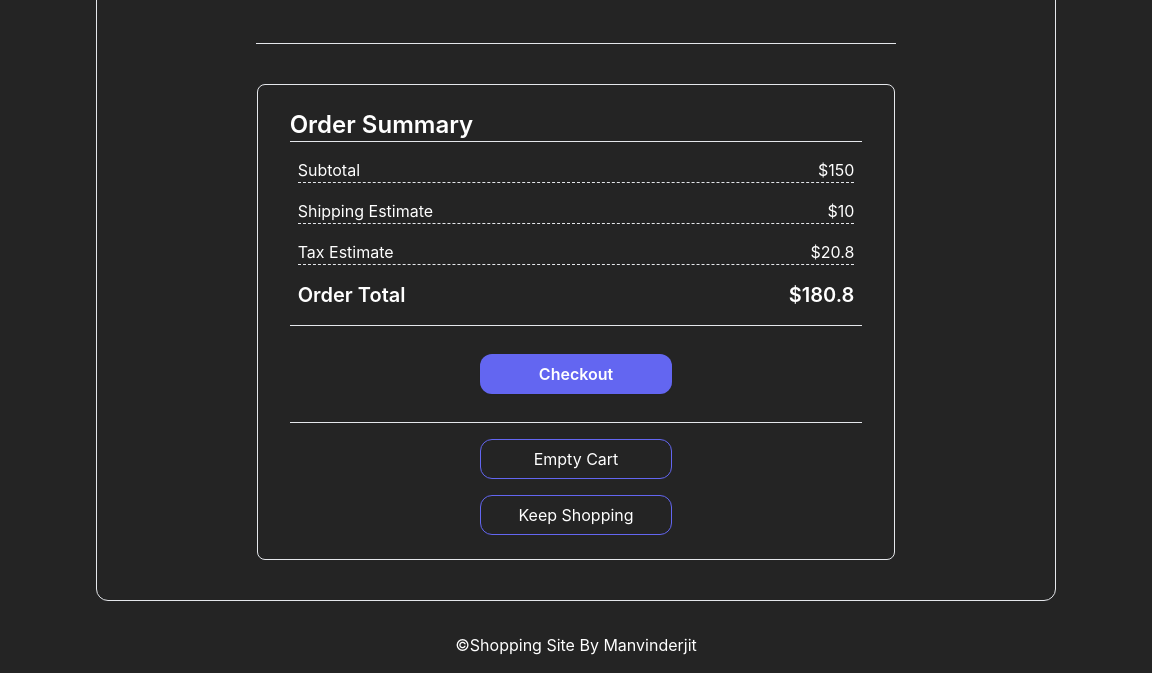
Scenario: should be able to empty cart › should render 'Empty Cart' message
(page scrolled)
Click the button "Empty Cart".
click(576, 459)  # box [480,439,672,479]
(page scrolled)
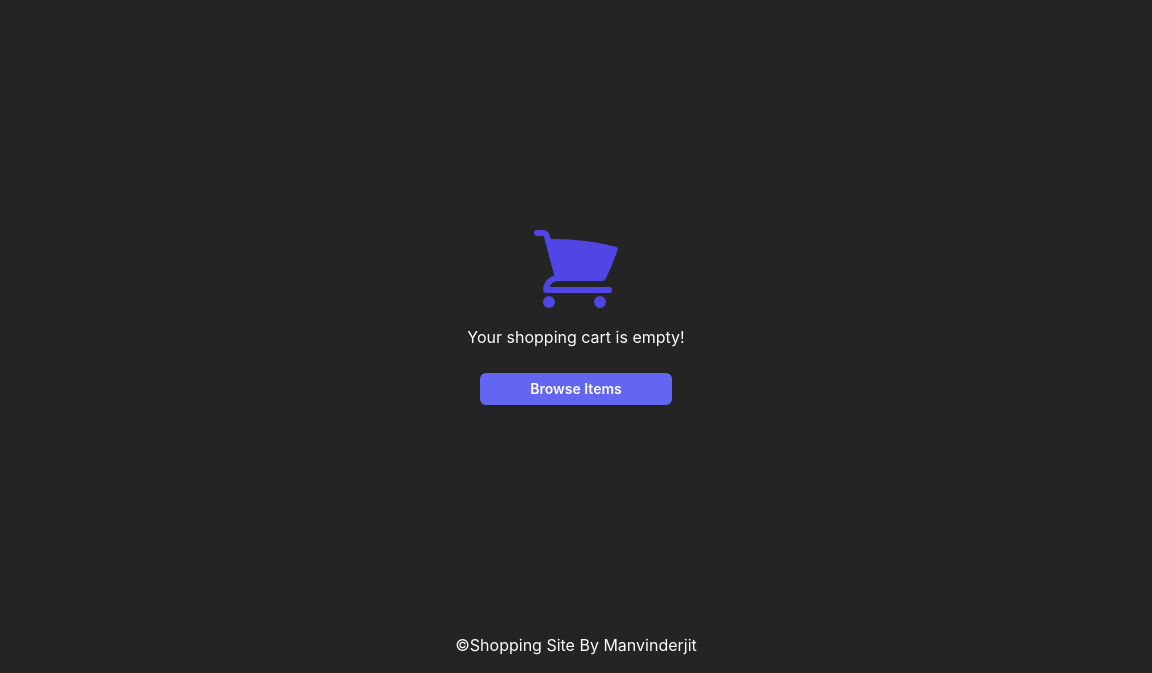
Expected: the text "Your shopping cart is empty!" is shown, [467,325,685,349]
